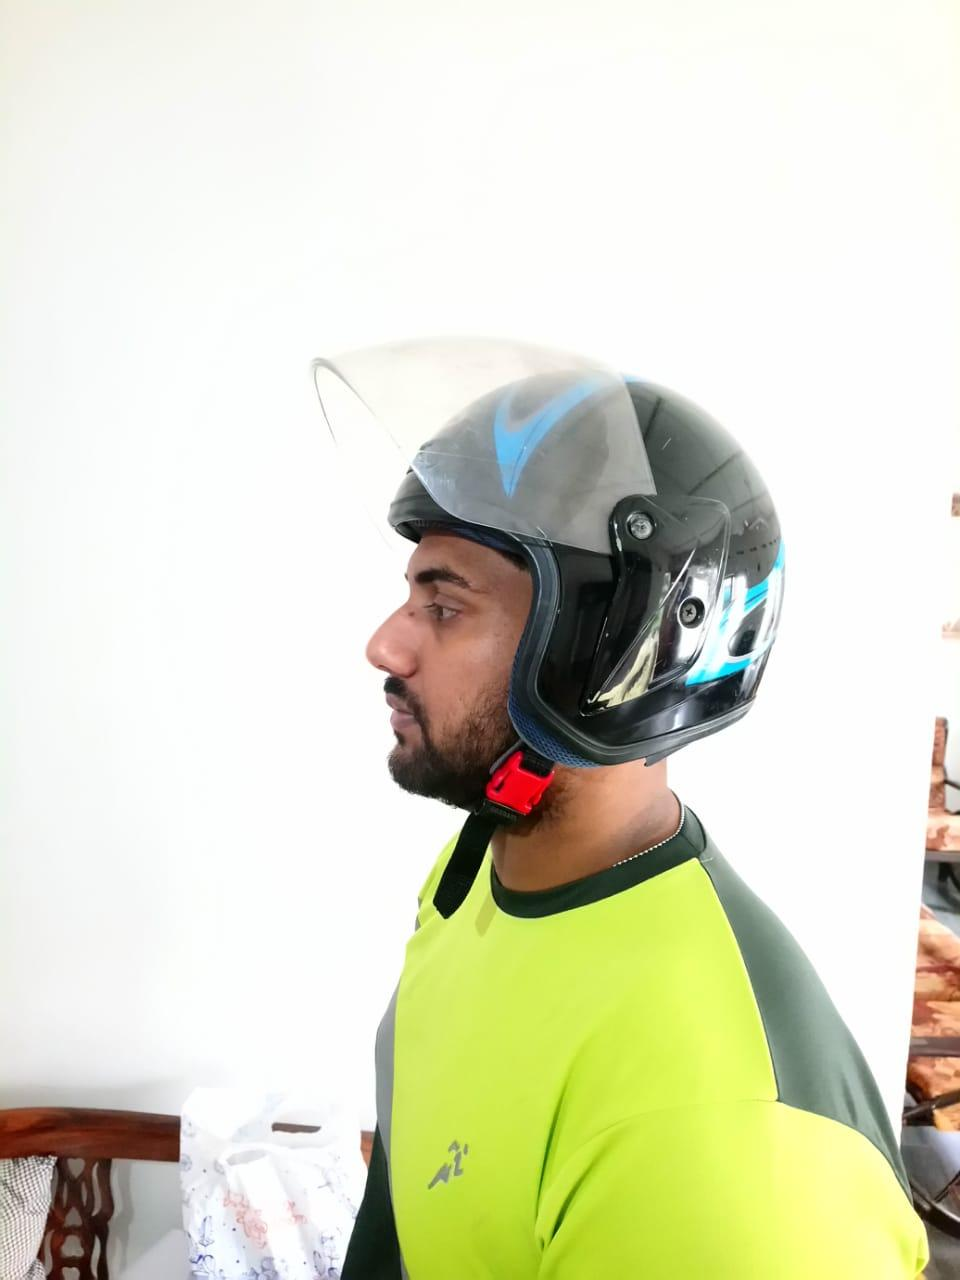helmet: (309, 336, 788, 768)
